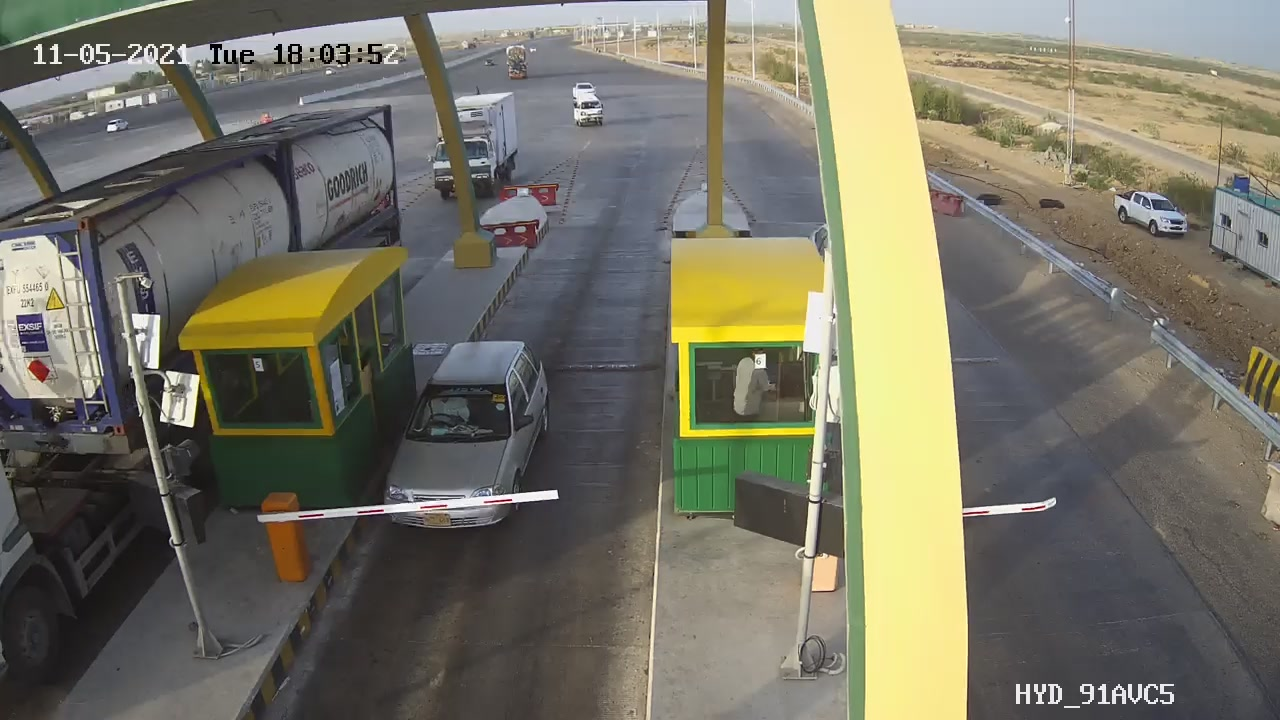F1: (369, 324, 565, 544)
